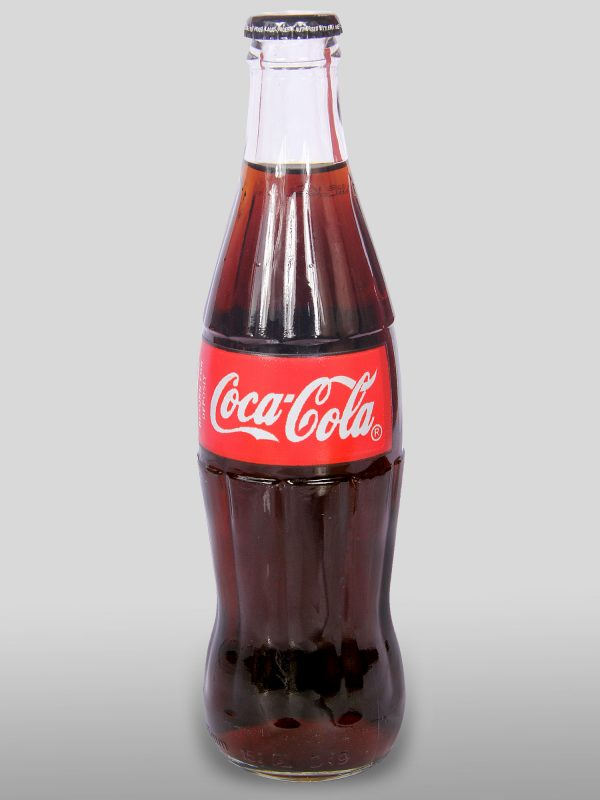coca_cola_bottle: (196, 11, 407, 782)
